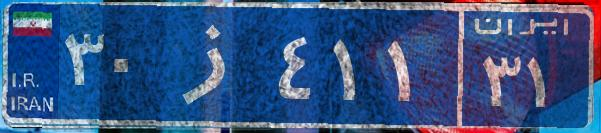0: (110, 28, 158, 105)
1: (385, 28, 445, 110), (330, 28, 385, 110), (525, 38, 570, 115)
3: (57, 26, 110, 107), (475, 38, 525, 113)
4: (273, 28, 330, 110)
ز: (158, 15, 273, 115)
